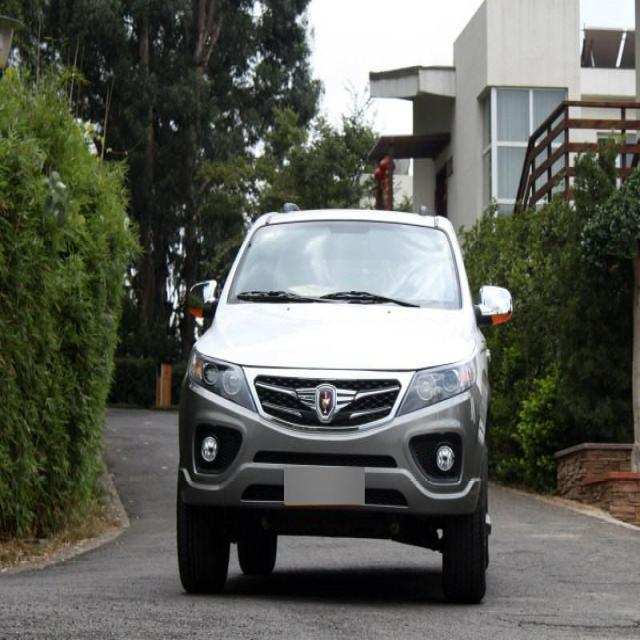front_bumper: (180, 380, 484, 520)
front_glass: (228, 217, 462, 306)
front_left_side_light: (396, 361, 471, 418)
front_left_side_mirror: (474, 282, 516, 328)
front_right_side_light: (188, 347, 258, 416)
front_right_side_mirror: (182, 272, 217, 324)
wheel: (176, 492, 227, 594)
